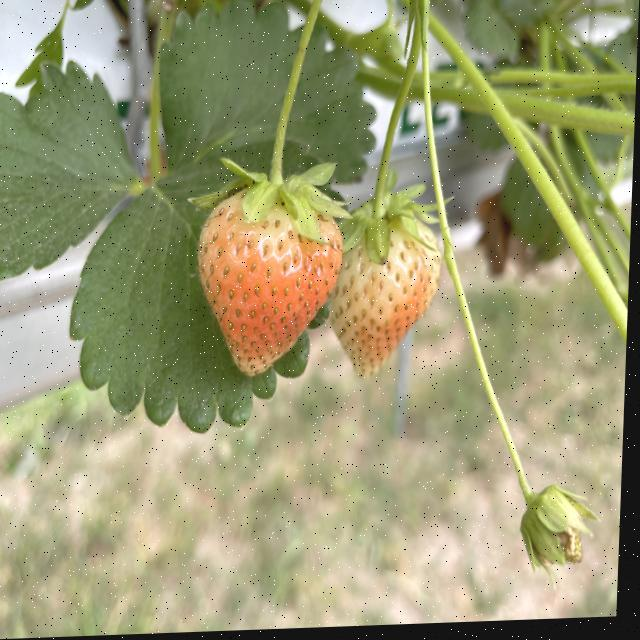stem: (192, 0, 343, 240), (347, 13, 433, 259)
strawberryNR: (327, 228, 439, 377)
strawberryR: (198, 196, 342, 372)
